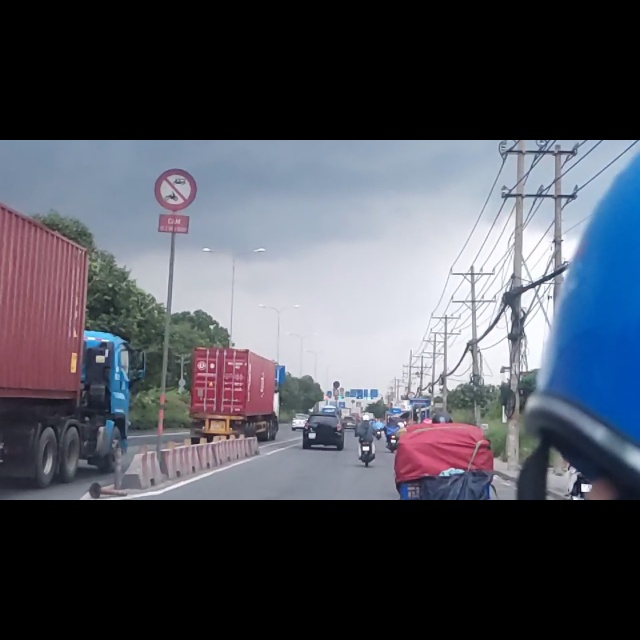bien_hieu_lenh: (154, 51, 198, 126)
